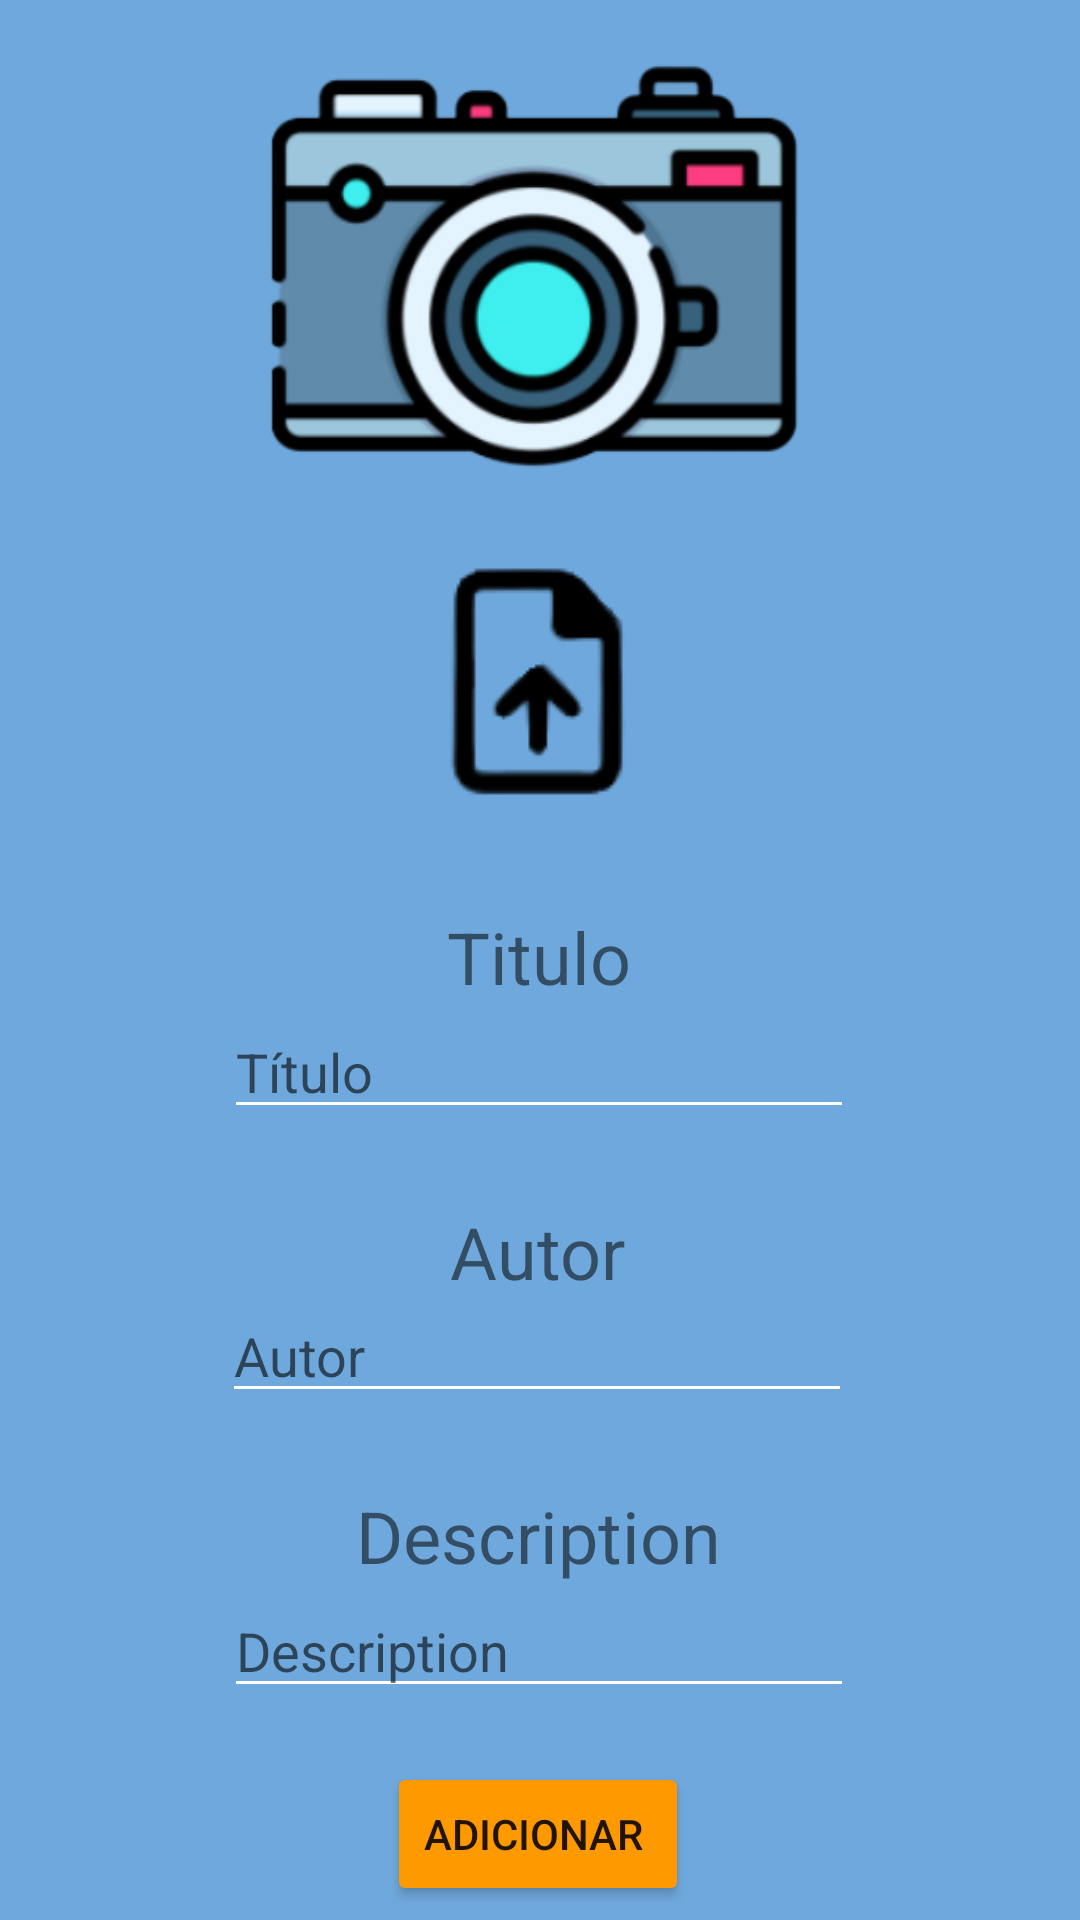

Icons on this 1080px×1920px Android screen, each with the point to tap as (x,y):
ficheiro: (537,681)
